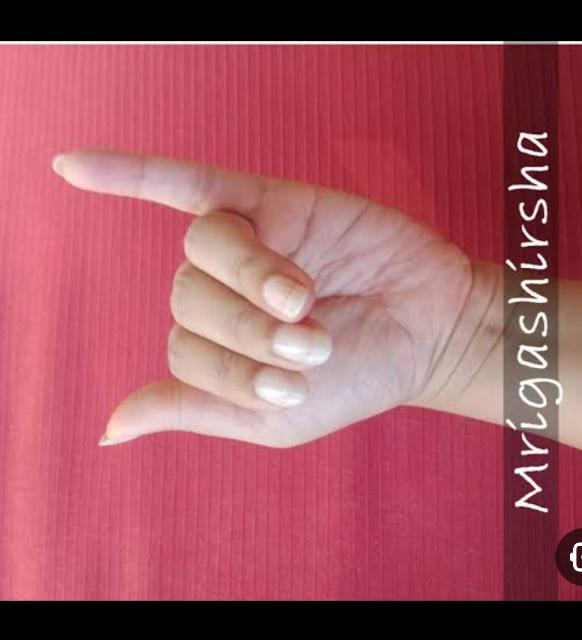mrighasheesh: (58, 149, 530, 447)
